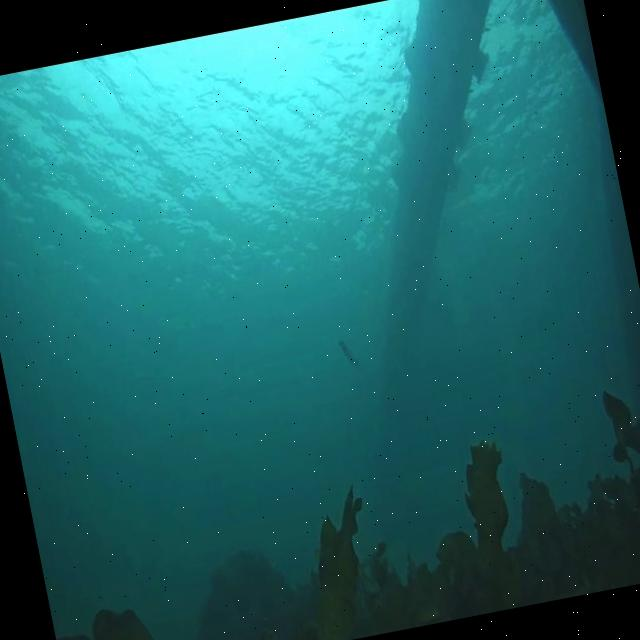fish: (338, 338, 362, 373)
